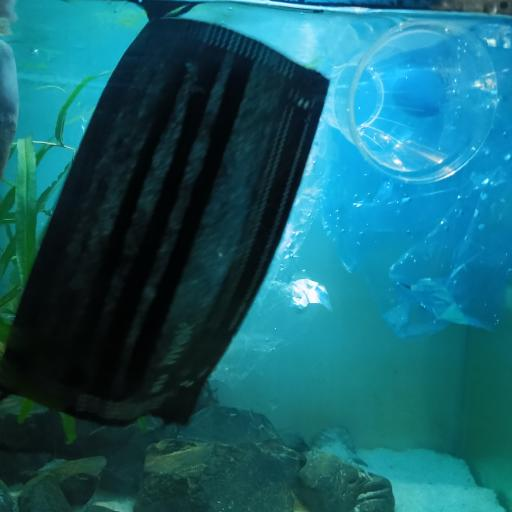mask: (7, 16, 334, 426)
plastic_bag: (278, 1, 512, 337)
plastic_cup: (324, 22, 500, 178)
